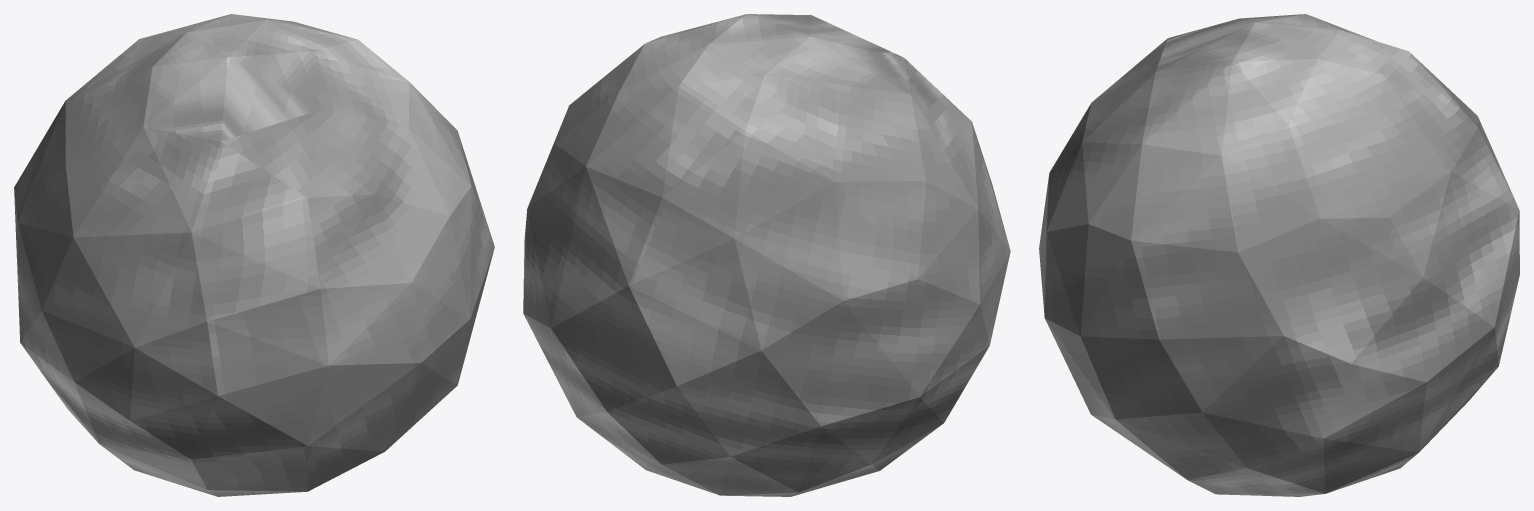
Rendered from iron_bullet.obj.
3 views of the same model, side by side, from view 1: azimuth 30°, elevation 25°; view 2: azimuth 150°, elevation 25°; view 3: azimuth 270°, elevation 25° (orthographic).
Parts seen in each view (by area): view 1: Sphere; view 2: Sphere; view 3: Sphere.
Boxes of the visible parts, <box> form: Sphere: <box>14,14,494,496</box>; Sphere: <box>523,14,1010,496</box>; Sphere: <box>1039,14,1519,496</box>.
Bounding box in the file's own units: 0.8321 × 0.8185 × 0.8156.
